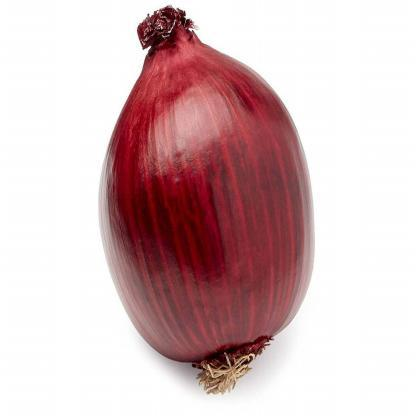onion: (83, 13, 345, 400)
